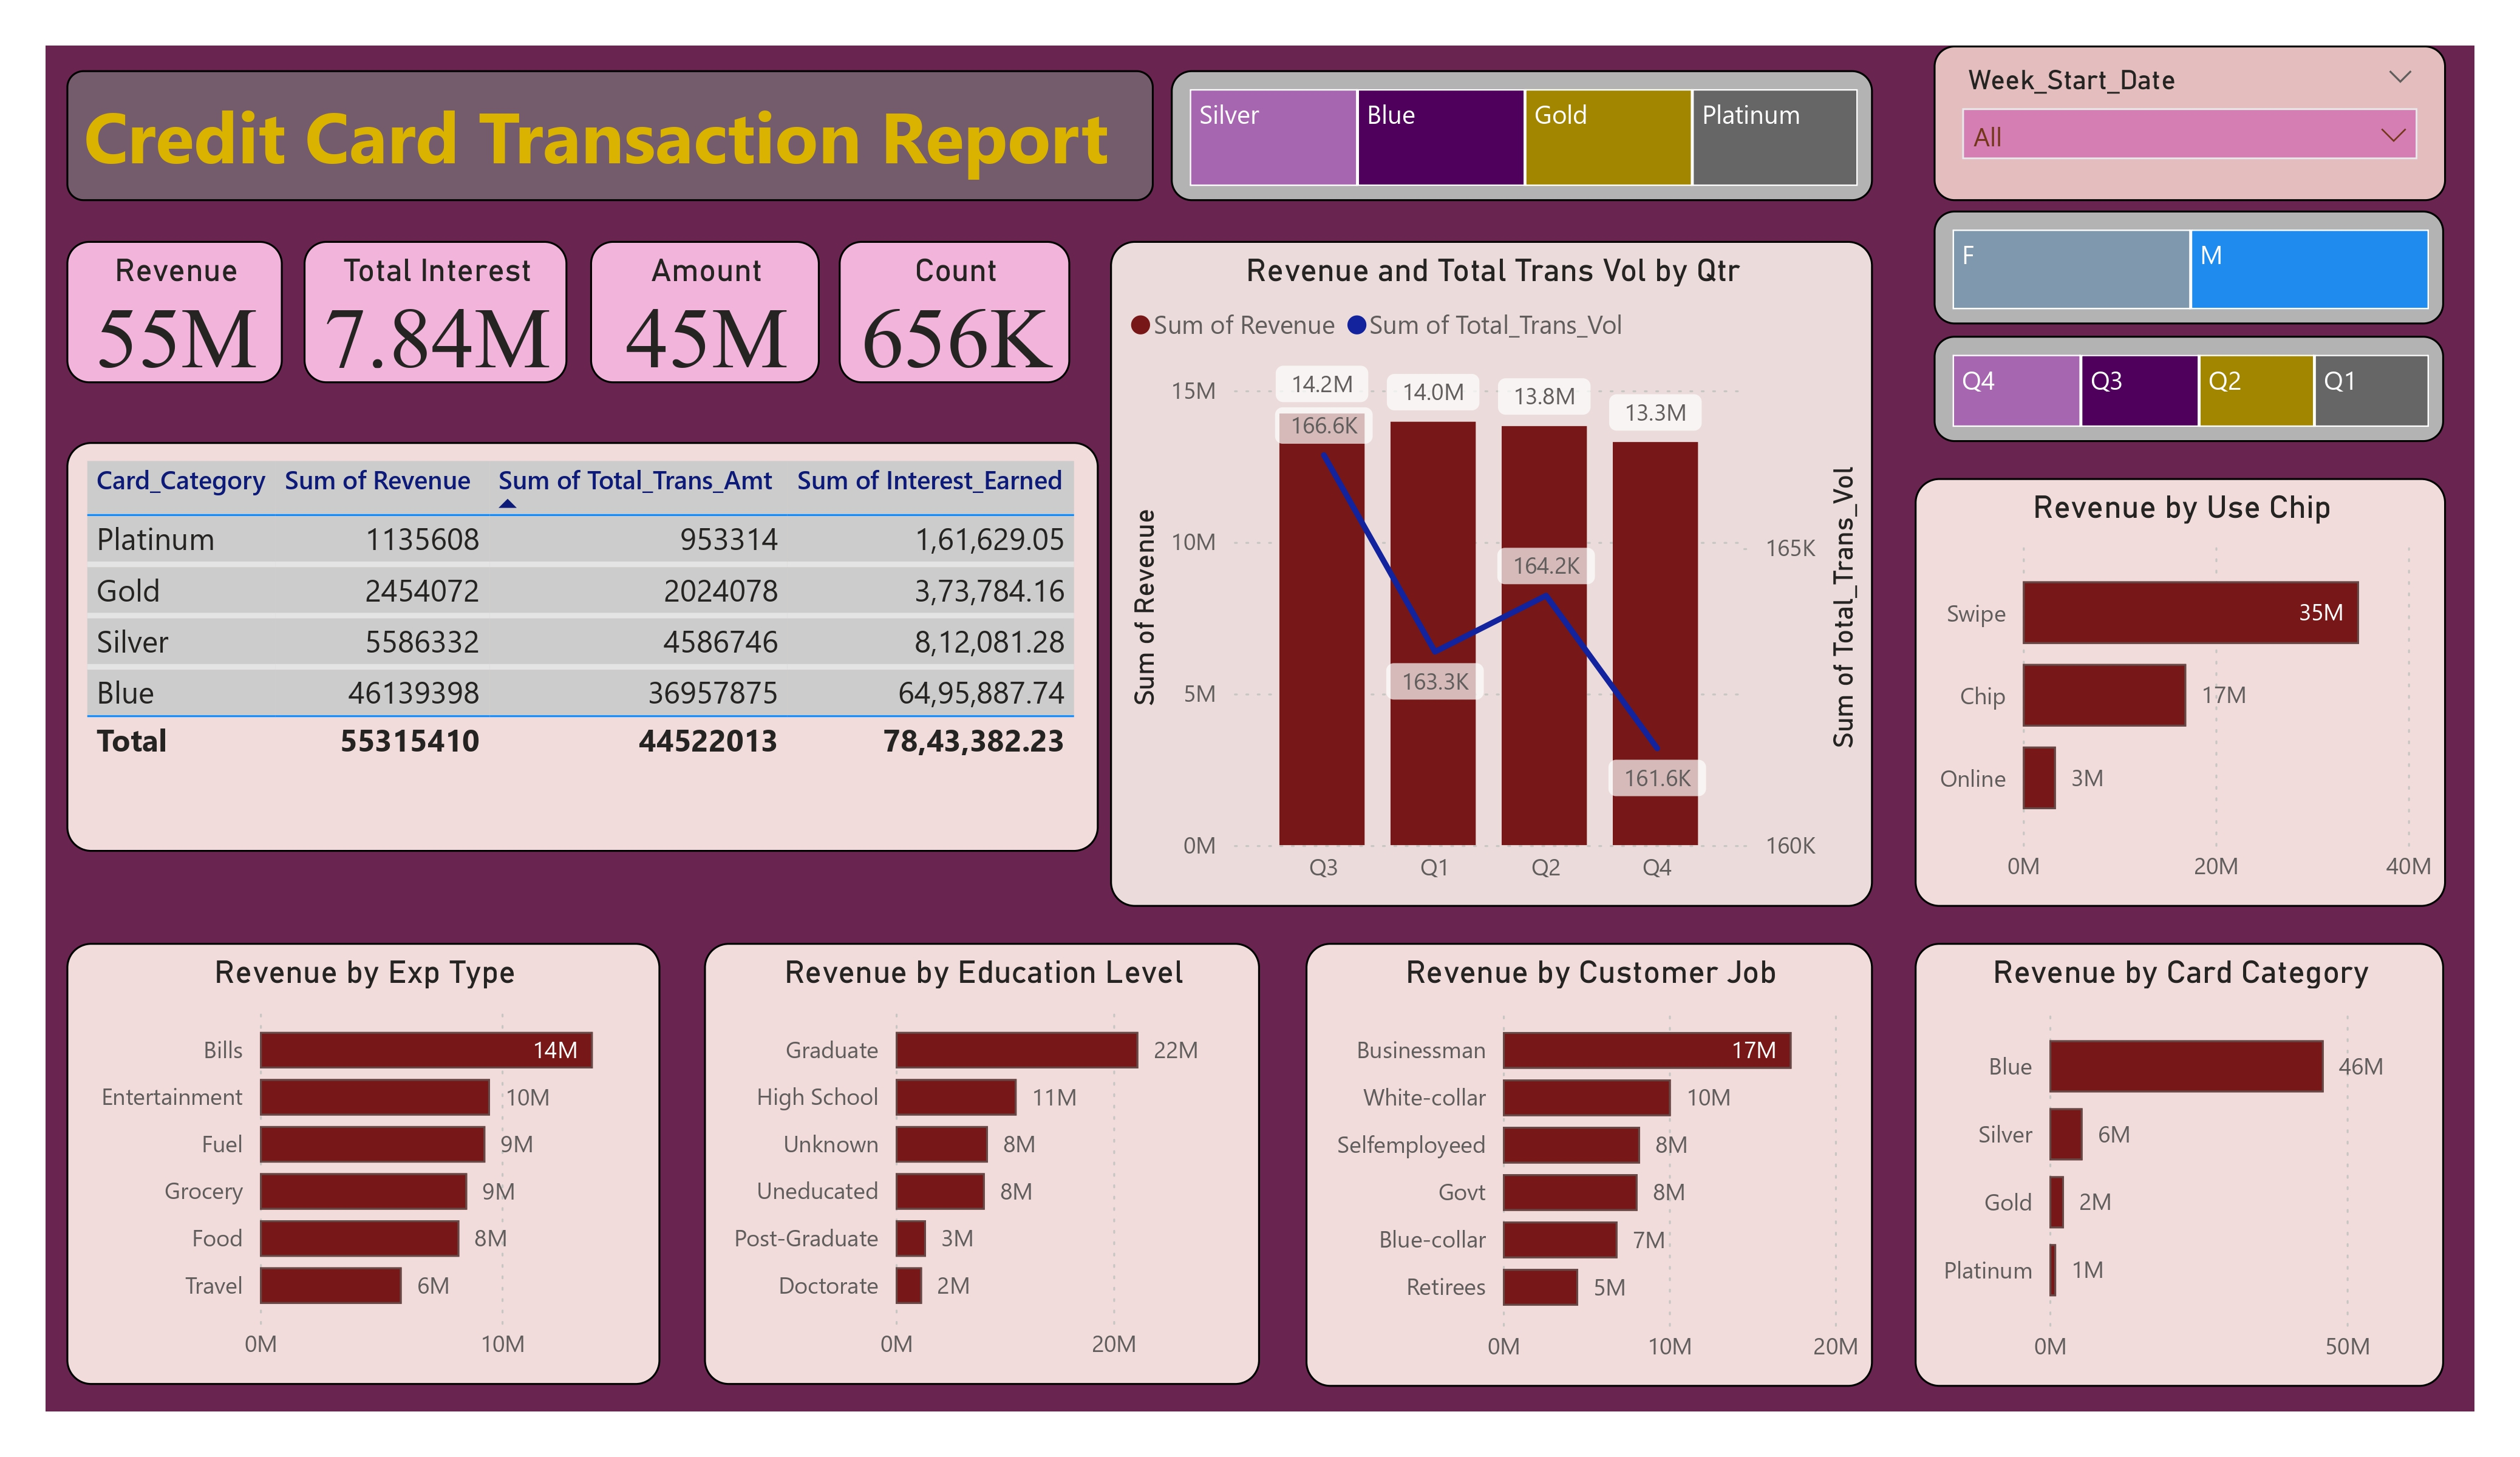

The page's visual inventory and layout, read from the dashboard file:
{"tool":"powerbi","page":{"name":"Transaction Report","canvas":[1280,720],"ordinal":0},"visuals":[{"type":"textbox","box":[0,0,571.4,71.7],"z":0},{"type":"lineClusteredColumnComboChart","fields":{"Category":["credit_card.Qtr"],"Y":["Sum(credit_card.Revenue)"],"Y2":["Sum(credit_card.Total_Trans_Vol)"]},"box":[557.8,157.1,393.3,258.5],"z":1000},{"type":"barChart","fields":{"Y":["Sum(credit_card.Revenue)"],"Category":["credit_card.Exp Type"]},"box":[11.1,447.7,293.1,258.5],"z":2000},{"type":"barChart","fields":{"Y":["Sum(credit_card.Revenue)"],"Category":["customer.Education_Level"]},"box":[325.3,448.9,294.3,258.5],"z":3000},{"type":"barChart","fields":{"Y":["Sum(credit_card.Revenue)"],"Category":["customer.Customer_Job"]},"box":[640.6,448.9,301.8,258.5],"z":4000},{"type":"barChart","fields":{"Y":["Sum(credit_card.Revenue)"],"Category":["credit_card.Card_Category"]},"box":[962.2,448.9,301.8,258.5],"z":5000},{"type":"barChart","fields":{"Y":["Sum(credit_card.Revenue)"],"Category":["credit_card.Use Chip"]},"box":[962.2,157.1,301.8,258.5],"z":6000},{"type":"tableEx","fields":{"Values":["credit_card.Card_Category","Sum(credit_card.Revenue)","Sum(credit_card.Total_Trans_Amt)","Sum(credit_card.Interest_Earned)"]},"box":[11.1,216.4,528.1,199.1],"z":7000},{"type":"card","title":"Revenue","fields":{"Values":["Sum(credit_card.Revenue)"]},"box":[11.1,102.6,113.8,75.4],"z":8000},{"type":"card","title":"Total Interest","fields":{"Values":["Sum(credit_card.Interest_Earned)"]},"box":[136,102.6,138.5,75.4],"z":9000},{"type":"card","title":"Amount","fields":{"Values":["Sum(credit_card.Total_Trans_Amt)"]},"box":[286.9,102.6,121.2,75.4],"z":10000},{"type":"card","title":"Count","fields":{"Values":["Sum(credit_card.Total_Trans_Vol)"]},"box":[418,102.6,122.4,75.4],"z":11000},{"type":"slicer","fields":{"Values":["credit_card.Week_Start_Date"]},"box":[1038.8,0,241.2,85.3],"z":12000},{"type":"treemap","fields":{"Group":["credit_card.Qtr"],"Values":["Avg(credit_card.Client_Num)"]},"box":[619.6,81.6,379.7,59.4],"z":13000},{"type":"treemap","fields":{"Group":["customer.Gender"],"Values":["Avg(credit_card.Client_Num)"]},"box":[874.4,6.2,153.4,59.4],"z":14000},{"type":"treemap","fields":{"Values":["Avg(credit_card.Client_Num)"],"Group":["credit_card.Card_Category"]},"box":[583.7,6.2,274.6,59.4],"z":15000}]}

Visuals, with their boxes in screenshot pixels (x1, y1, x2, y2):
textbox: pyautogui.locateOnScreen(46, 46, 1130, 182)
lineClusteredColumnComboChart - credit_card.Qtr x Sum(credit_card.Revenue): pyautogui.locateOnScreen(1104, 344, 1850, 834)
barChart - Sum(credit_card.Revenue) x credit_card.Exp Type: pyautogui.locateOnScreen(67, 895, 623, 1385)
barChart - Sum(credit_card.Revenue) x customer.Education_Level: pyautogui.locateOnScreen(663, 897, 1221, 1388)
barChart - Sum(credit_card.Revenue) x customer.Customer_Job: pyautogui.locateOnScreen(1261, 897, 1834, 1388)
barChart - Sum(credit_card.Revenue) x credit_card.Card_Category: pyautogui.locateOnScreen(1871, 897, 2444, 1388)
barChart - Sum(credit_card.Revenue) x credit_card.Use Chip: pyautogui.locateOnScreen(1871, 344, 2444, 834)
tableEx - credit_card.Card_Category x Sum(credit_card.Revenue): pyautogui.locateOnScreen(67, 456, 1069, 834)
"Revenue" card: pyautogui.locateOnScreen(67, 240, 282, 383)
"Total Interest" card: pyautogui.locateOnScreen(304, 240, 567, 383)
"Amount" card: pyautogui.locateOnScreen(590, 240, 820, 383)
"Count" card: pyautogui.locateOnScreen(839, 240, 1071, 383)
slicer - credit_card.Week_Start_Date: pyautogui.locateOnScreen(2017, 46, 2474, 208)
treemap - credit_card.Qtr x Avg(credit_card.Client_Num): pyautogui.locateOnScreen(1221, 200, 1942, 313)
treemap - customer.Gender x Avg(credit_card.Client_Num): pyautogui.locateOnScreen(1705, 57, 1996, 170)
treemap - Avg(credit_card.Client_Num) x credit_card.Card_Category: pyautogui.locateOnScreen(1153, 57, 1674, 170)
